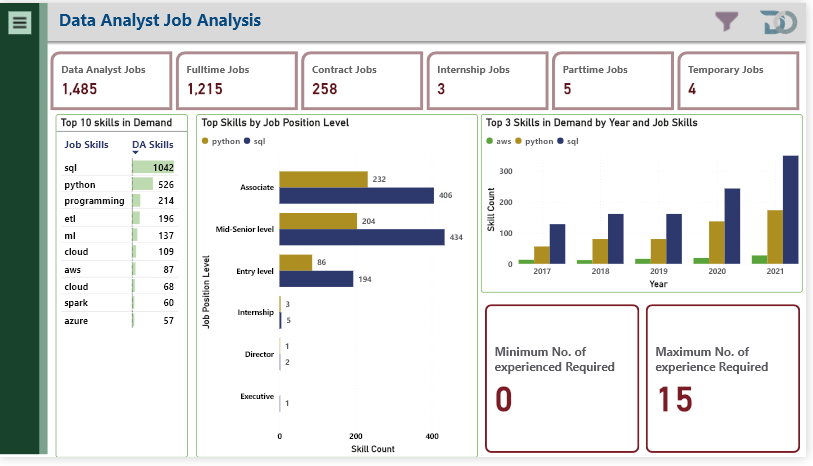

The page's visual inventory and layout, read from the dashboard file:
{"tool":"powerbi","page":{"name":"Data Analyst Analysis","canvas":[1280,720],"ordinal":2},"visuals":[{"type":"actionButton","title":"Filter","box":[1130,7.1,51.4,47.1],"z":0},{"type":"cardVisual","title":"Basic Stats","fields":{"Data":["Key_measures.Data Analyst Jobs","Key_measures.FT_DA","Key_measures.C_DA","Key_measures.IN_DA","Key_measures.PT_DA","Key_measures.T_DA"]},"box":[75.9,71.4,1199.2,104.2],"z":0,"group":"g1"},{"type":"group","id":"g1","title":"DA_Visualizations","box":[75.9,2.7,1200.7,717.4],"z":1000},{"type":"textbox","box":[89,2.7,369.5,47.2],"z":1000,"group":"g1"},{"type":"tableEx","title":"Top 10 skills in Demand","fields":{"Values":["job_skill_list.Job Skills","Key_measures.DA Skills"]},"box":[89.3,175.6,209.8,544.6],"z":2000,"group":"g1"},{"type":"actionButton","title":"Menu","box":[14.5,13,36.2,36.2],"z":3000},{"type":"clusteredColumnChart","title":"Top 3 Skills in Demand by Year and Job Skills","fields":{"Category":["DimDate.Year"],"Series":["job_skill_list.Job Skills"],"Y":["Key_measures.DA Skills"]},"box":[764.8,175.6,510.3,282.7],"z":3000,"group":"g1"},{"type":"clusteredBarChart","title":"Top Skills by Job Position Level","fields":{"Category":["job_postings.Job Position Level"],"Series":["job_skill_list.Job Skills"],"Y":["Key_measures.DA Skills"]},"box":[312.5,175.6,446.4,544.6],"z":4000,"group":"g1"},{"type":"cardVisual","fields":{"Data":["Key_measures.MinDA","Key_measures.MaxDA"]},"box":[766.3,473.2,510.3,247],"z":5000,"group":"g1"}]}

Visuals, with their boxes in screenshot pixels (x1, y1, x2, y2), scaled from the page's 1280x720 canvas onto the 813x466 screenshot:
"Filter" actionButton: Rect(718, 5, 750, 35)
"Basic Stats" cardVisual: Rect(48, 46, 810, 114)
"DA_Visualizations" group: Rect(48, 2, 811, 465)
textbox: Rect(57, 2, 291, 32)
"Top 10 skills in Demand" tableEx: Rect(57, 114, 190, 465)
"Menu" actionButton: Rect(9, 8, 32, 32)
"Top 3 Skills in Demand by Year and Job Skills" clusteredColumnChart: Rect(486, 114, 810, 297)
"Top Skills by Job Position Level" clusteredBarChart: Rect(198, 114, 482, 465)
cardVisual - Key_measures.MinDA x Key_measures.MaxDA: Rect(487, 306, 811, 465)
